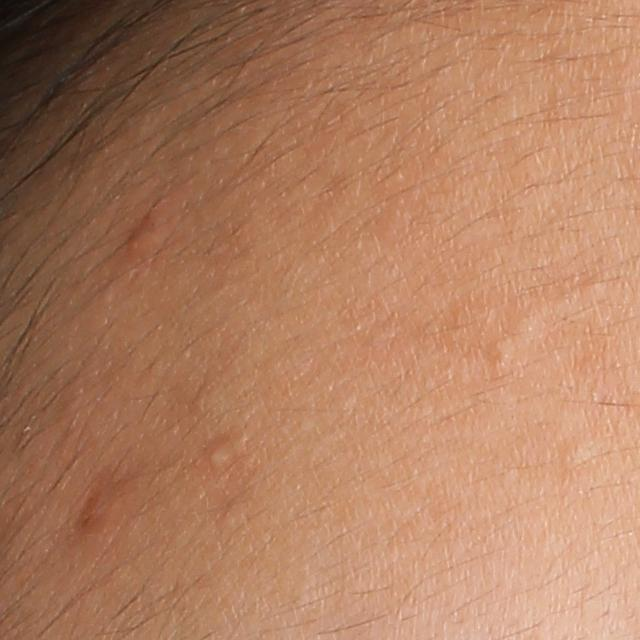comedo: (552, 435, 601, 472), (485, 336, 520, 373), (206, 437, 236, 472)
papule: (125, 217, 166, 264)
